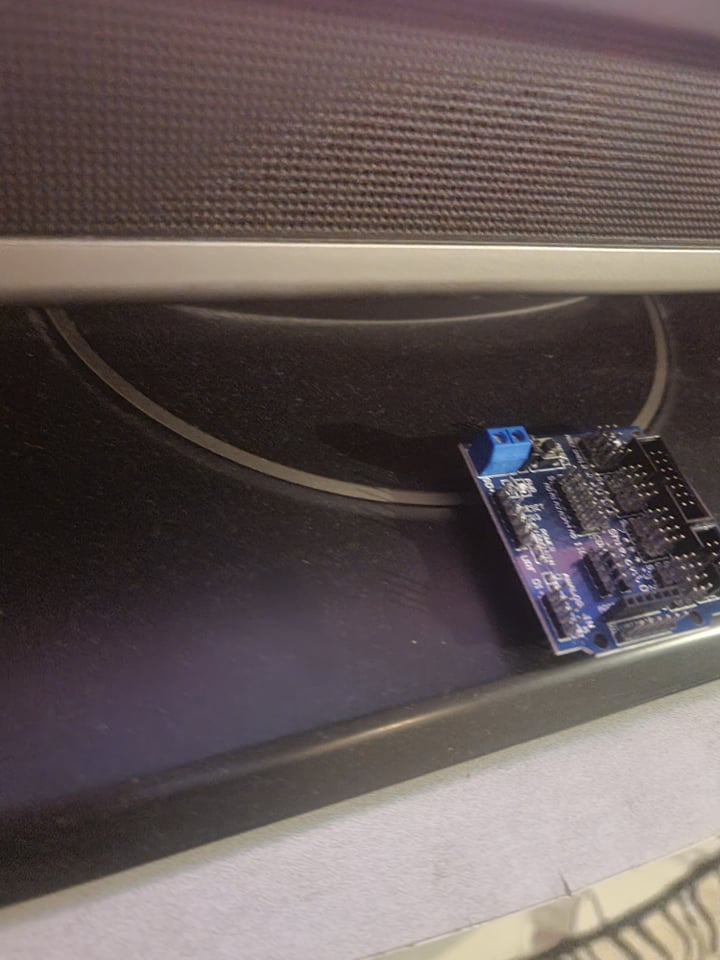5V EXPANSION: (458, 426, 720, 660)
